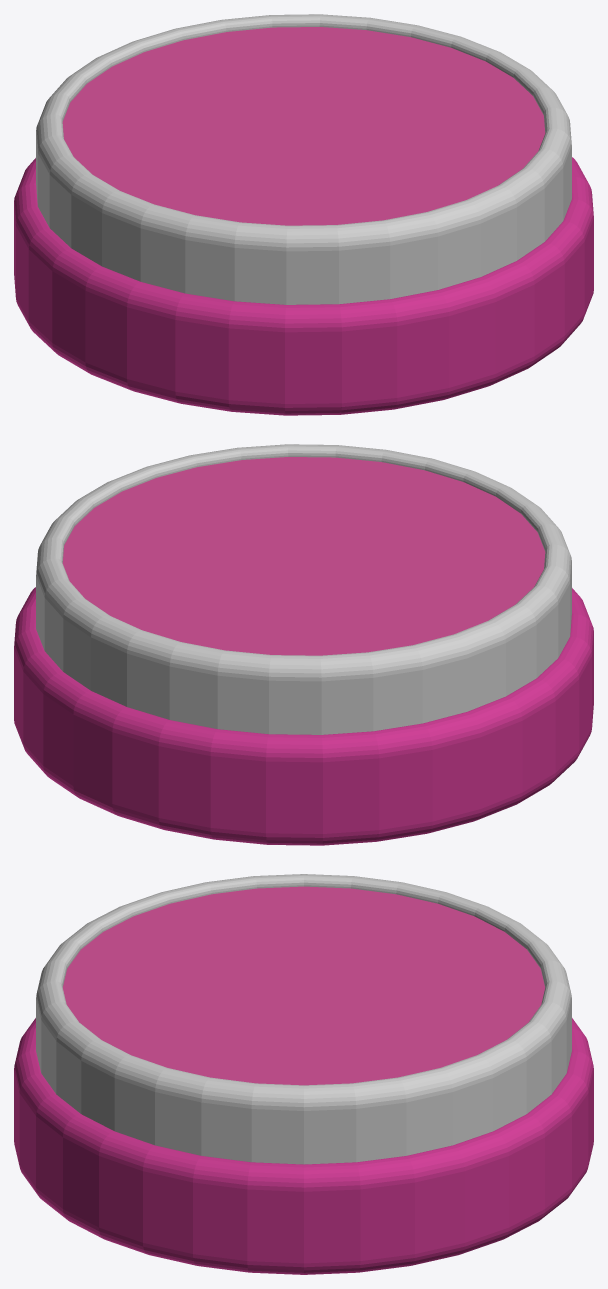
Rendered from HashiTwoNode.fbx.
3 renders of one model, top to bottom at view 1: azimuth 30°, elevation 25°; view 2: azimuth 150°, elevation 25°; view 3: azimuth 270°, elevation 25°, orthographic.
Visible parts, largest first — view 1: HashiInsideTwo, HashiTwoNode; view 2: HashiInsideTwo, HashiTwoNode; view 3: HashiInsideTwo, HashiTwoNode.
Boxes of the visible parts, box(x1,y1,x2,y2) form: HashiInsideTwo: box(36, 14, 571, 304); HashiTwoNode: box(14, 157, 593, 415); HashiInsideTwo: box(36, 444, 571, 734); HashiTwoNode: box(14, 587, 593, 845); HashiInsideTwo: box(36, 874, 571, 1164); HashiTwoNode: box(14, 1018, 593, 1274).
Bounding box in the file's own units: 200 × 200 × 67.68.
